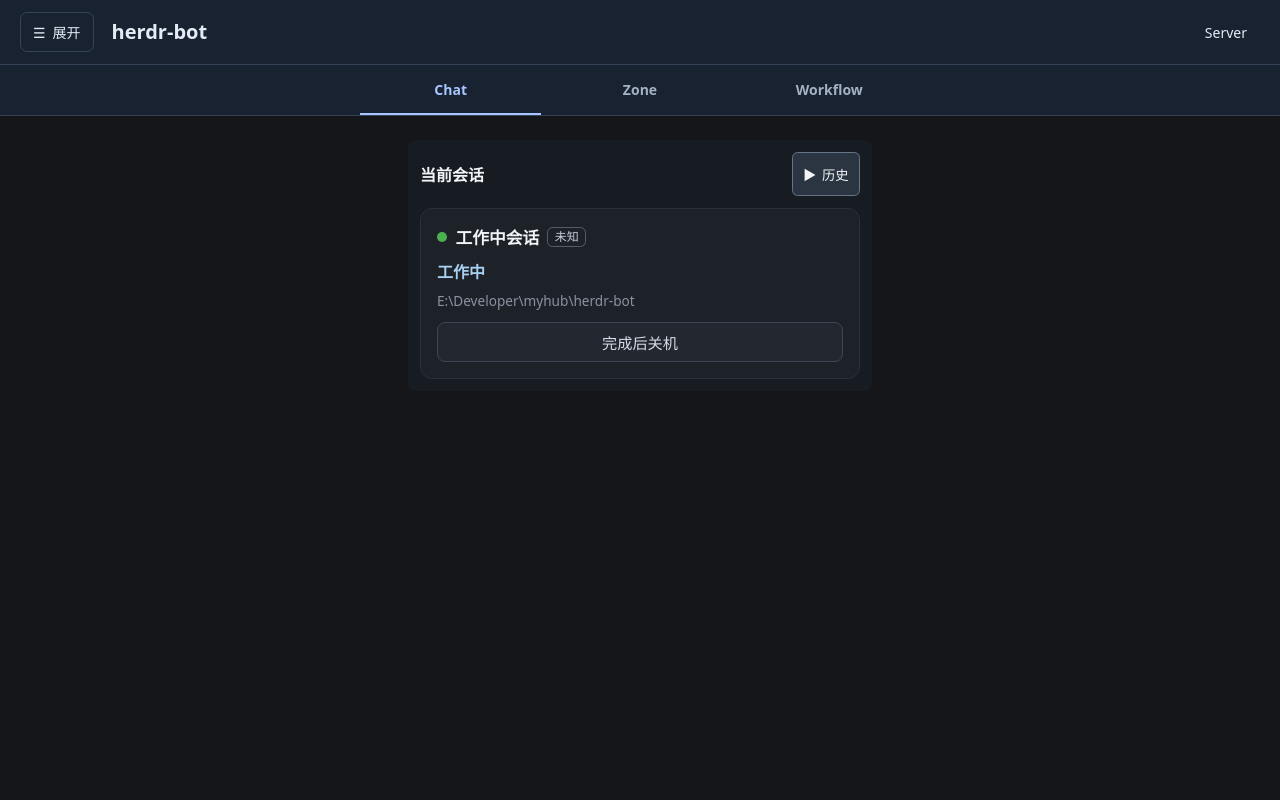
完成后关机监听的选择与撤销 › 观察已给出较新的集合后，迟到的合法监听回执不让选中展示回退
Click the tab with test id "tab-sessions".
click(451, 90)  # box [360,65,541,115]
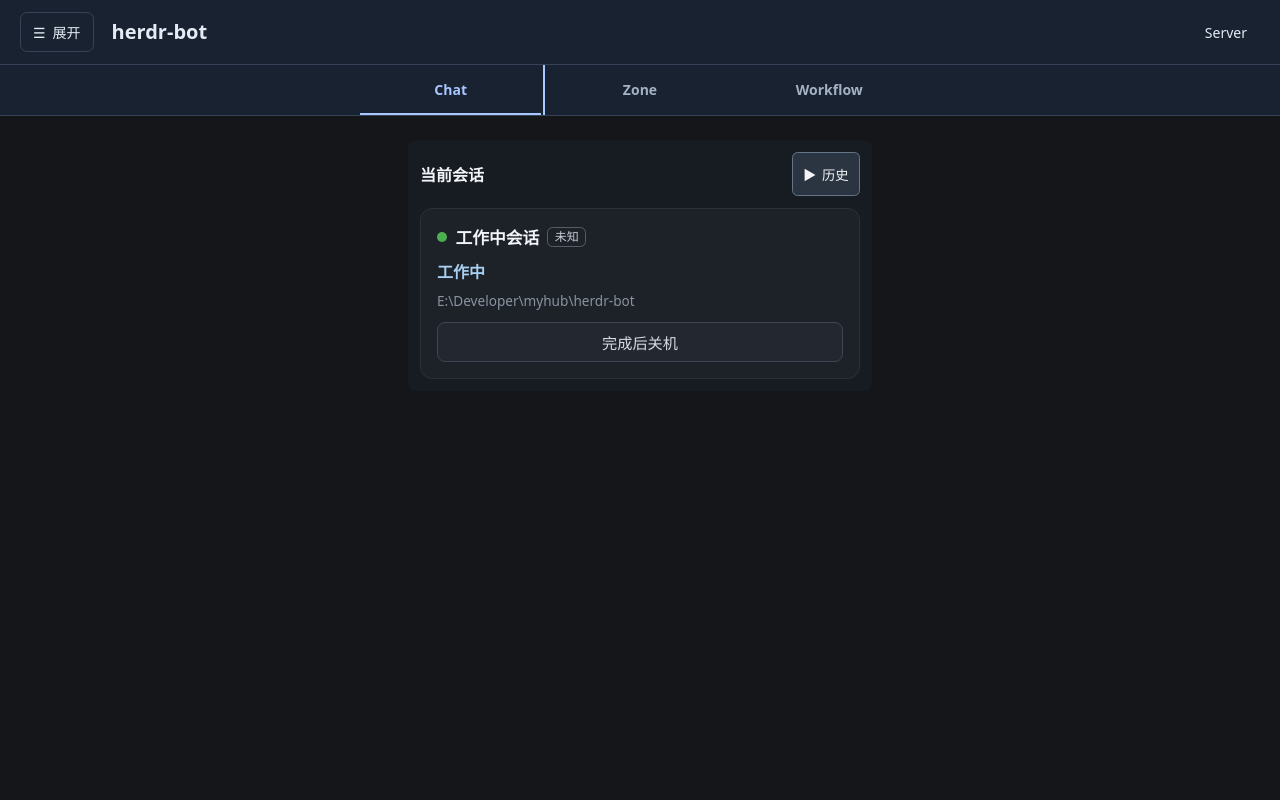
Click the button with test id "monitor-button".
click(640, 342)  # box [437,322,843,362]
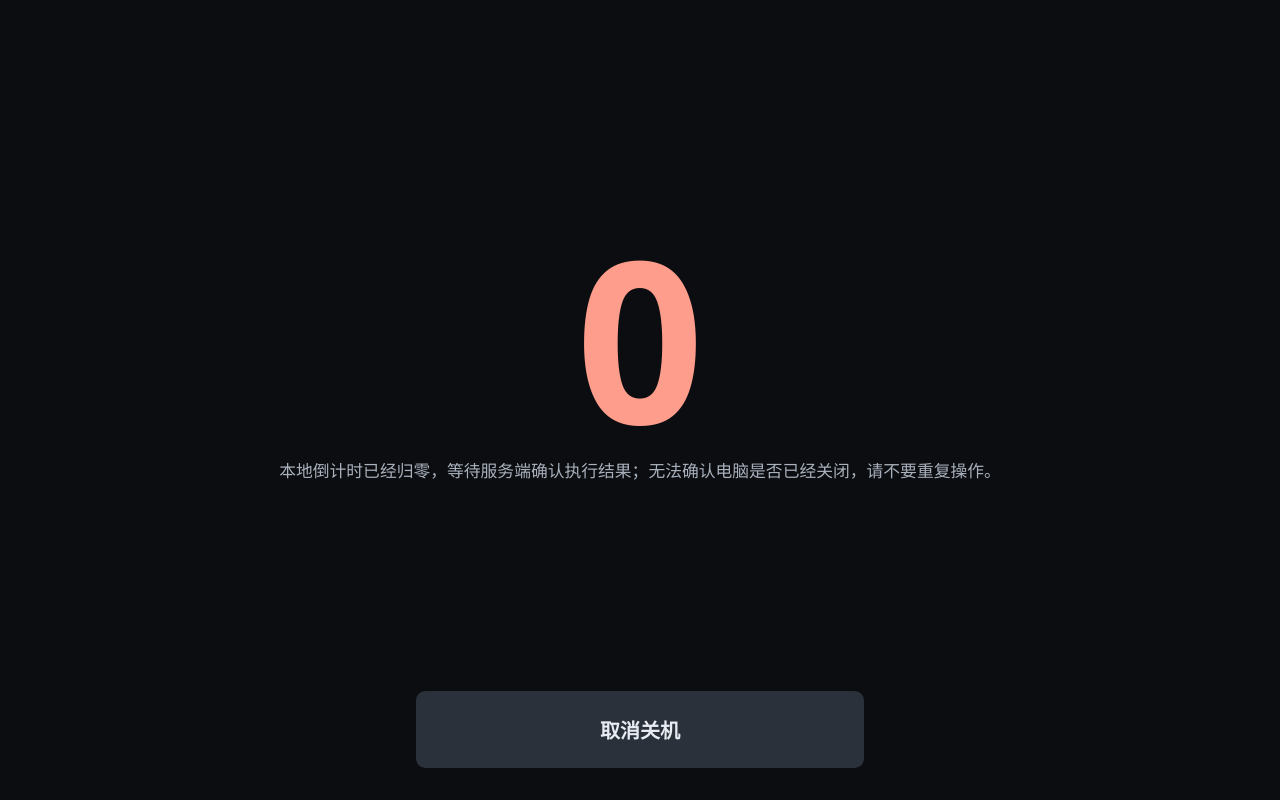
Check: the button with test id "monitor-button" is gone
